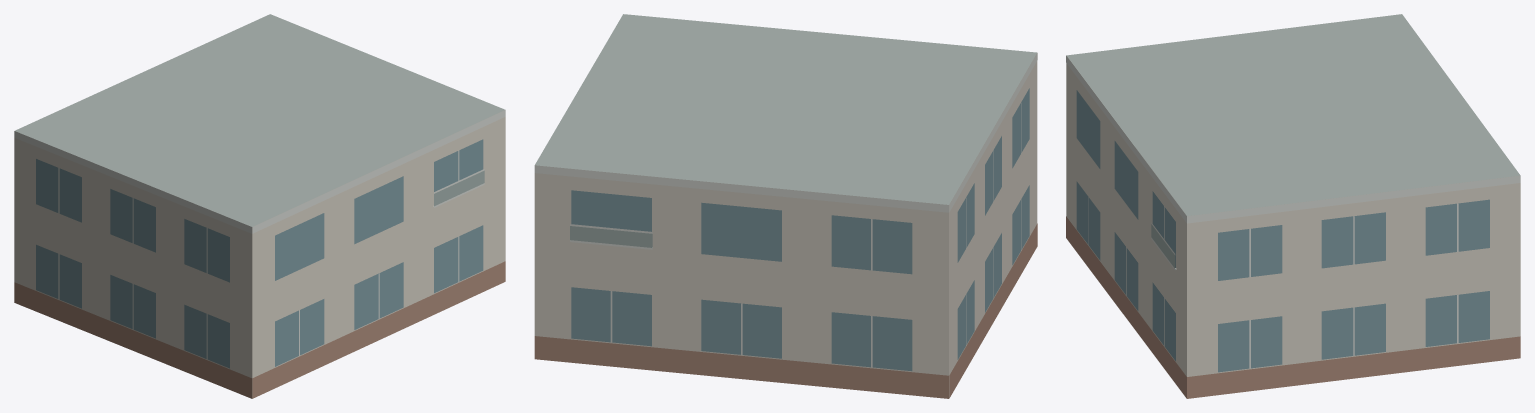
Rendered from survey-upis-32949165.glb.
3 views of the same model, side by side, from view 1: azimuth 30°, elevation 25°; view 2: azimuth 150°, elevation 25°; view 3: azimuth 270°, elevation 25° (orthographic). The views are drawn at different scales.
Parts seen in each view (by area): view 1: survey-upis-32949165.tmp; view 2: survey-upis-32949165.tmp; view 3: survey-upis-32949165.tmp.
Part boxes in pixels (bbox=[...]): survey-upis-32949165.tmp: bbox=[14, 14, 505, 398]; survey-upis-32949165.tmp: bbox=[534, 14, 1037, 398]; survey-upis-32949165.tmp: bbox=[1066, 14, 1520, 398].
Bounding box in the file's own units: 14.5 × 6.1 × 13.77.
